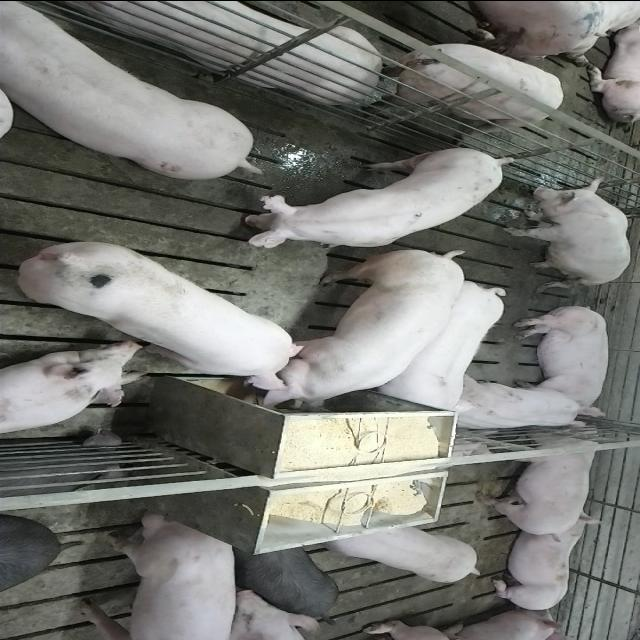Feeding: (15, 238, 308, 394), (247, 251, 467, 417)
Lateral_lying: (511, 302, 611, 418)
Sitting: (503, 175, 633, 286)
Standing: (0, 0, 256, 176), (228, 144, 512, 246), (76, 511, 238, 637), (362, 34, 565, 134), (377, 279, 512, 409), (473, 422, 609, 537), (322, 524, 486, 587), (231, 543, 341, 621)
Sternal_lying: (37, 0, 383, 100), (0, 344, 146, 436), (486, 516, 604, 612), (448, 377, 592, 433)
